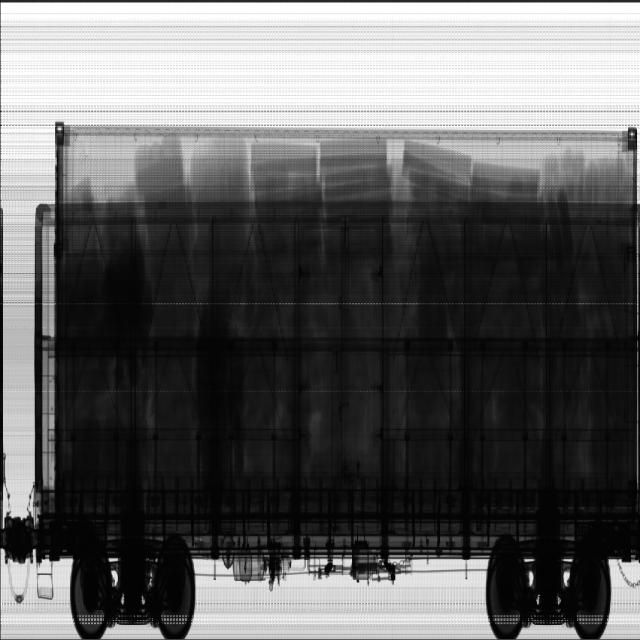textiles: (65, 137, 633, 494)
